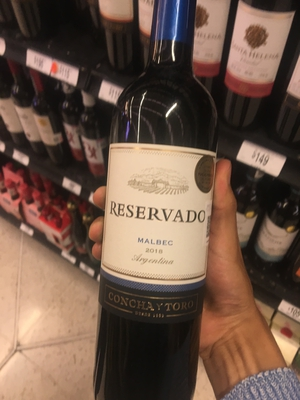reservado malbec: (92, 5, 219, 394)
